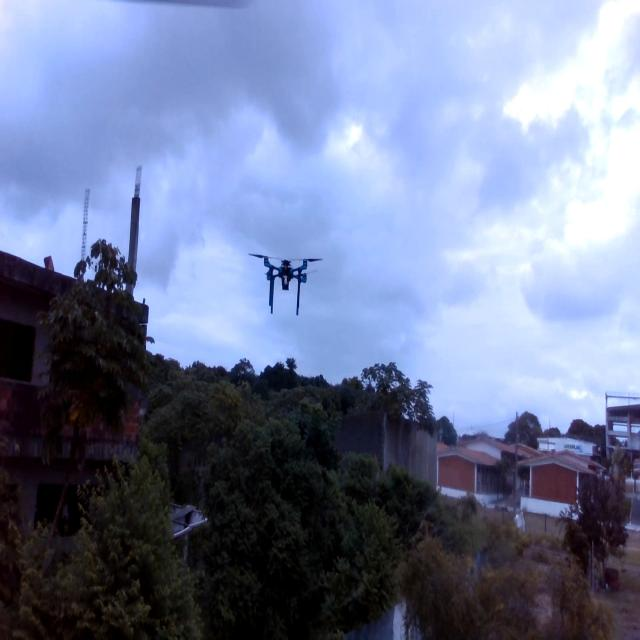-uav-: (244, 242, 328, 317)
